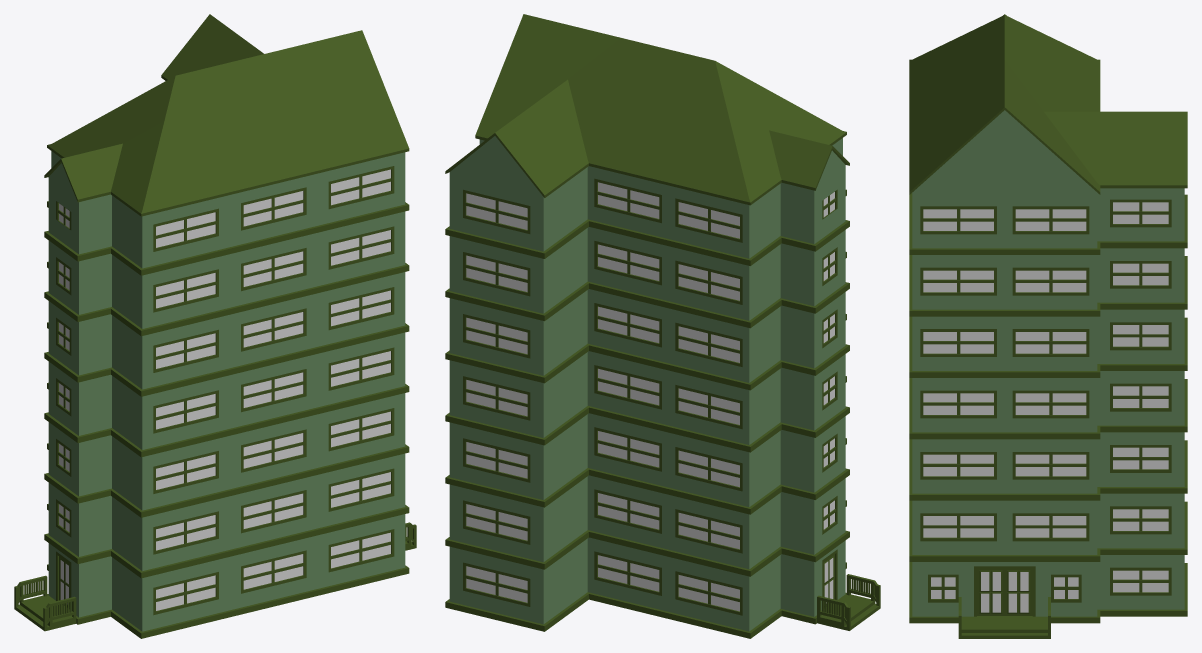
The model's file is business building 28.fbx.
3 views of the same model, side by side, from view 1: azimuth 30°, elevation 25°; view 2: azimuth 150°, elevation 25°; view 3: azimuth 270°, elevation 25° (orthographic). The views are drawn at different scales.
Parts seen in each view (by area): view 1: building_001; view 2: building_001; view 3: building_001.
Boxes of the visible parts, bbox=[...] form: building_001: bbox=[14, 14, 416, 638]; building_001: bbox=[445, 14, 880, 638]; building_001: bbox=[909, 14, 1187, 638].
Size of the model in its own units: 1386 by 1850 by 904.
